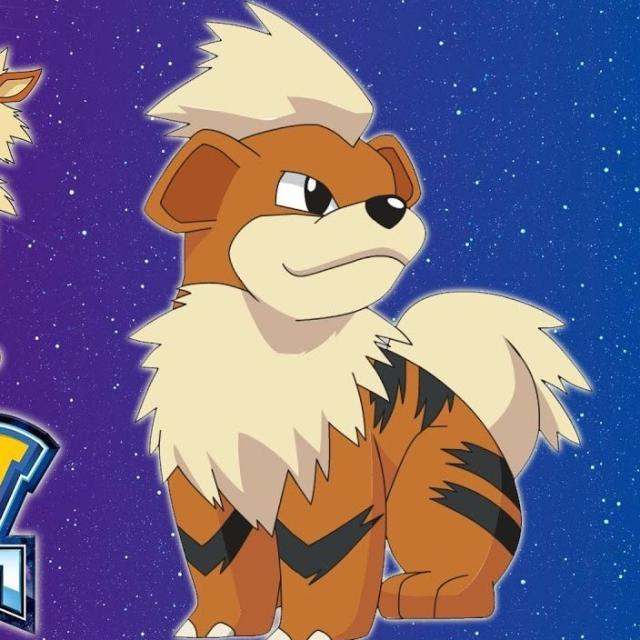Growlithe: (134, 0, 535, 640)
